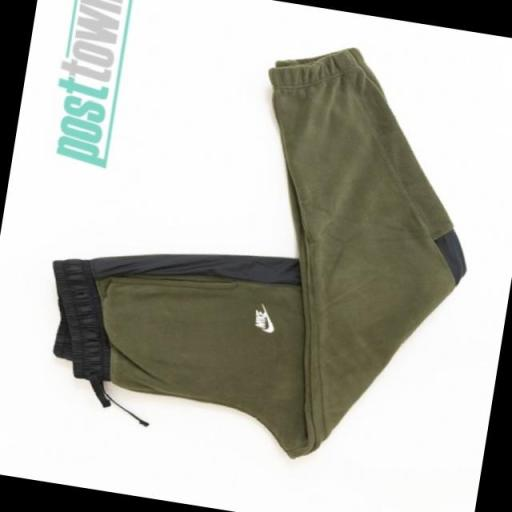Nike: (261, 304, 278, 334), (254, 308, 268, 328)
